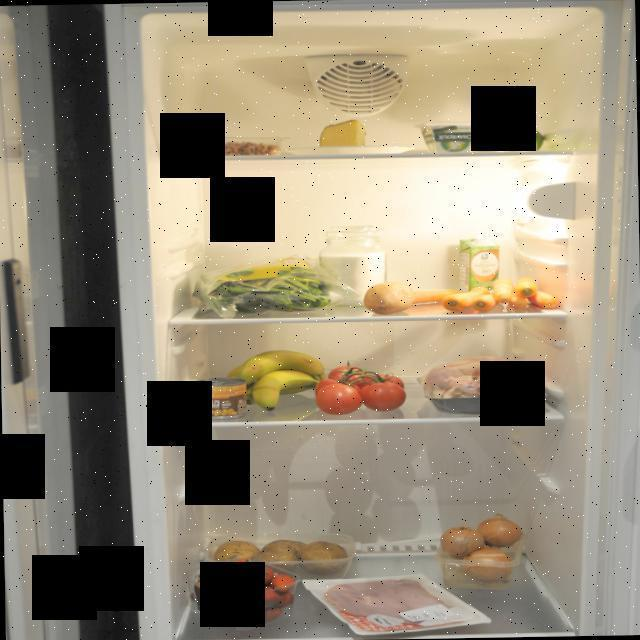banana: (234, 351, 324, 408)
carrot: (413, 274, 565, 316)
cheese: (316, 120, 372, 150)
chicken: (412, 352, 549, 414)
corn: (196, 376, 250, 420)
goat_cheese: (414, 118, 488, 158)
green_beans: (186, 253, 358, 320)
ham: (310, 574, 487, 638)
heavy_cream: (455, 234, 504, 288)
lime: (472, 121, 552, 155)
onion: (442, 514, 536, 582)
potato: (211, 534, 356, 576)
shrimp: (200, 140, 286, 158)
strawberries: (189, 557, 302, 629)
sugar: (320, 222, 386, 304)
sweet_potato: (353, 277, 423, 316)
tomato: (314, 358, 412, 416)
